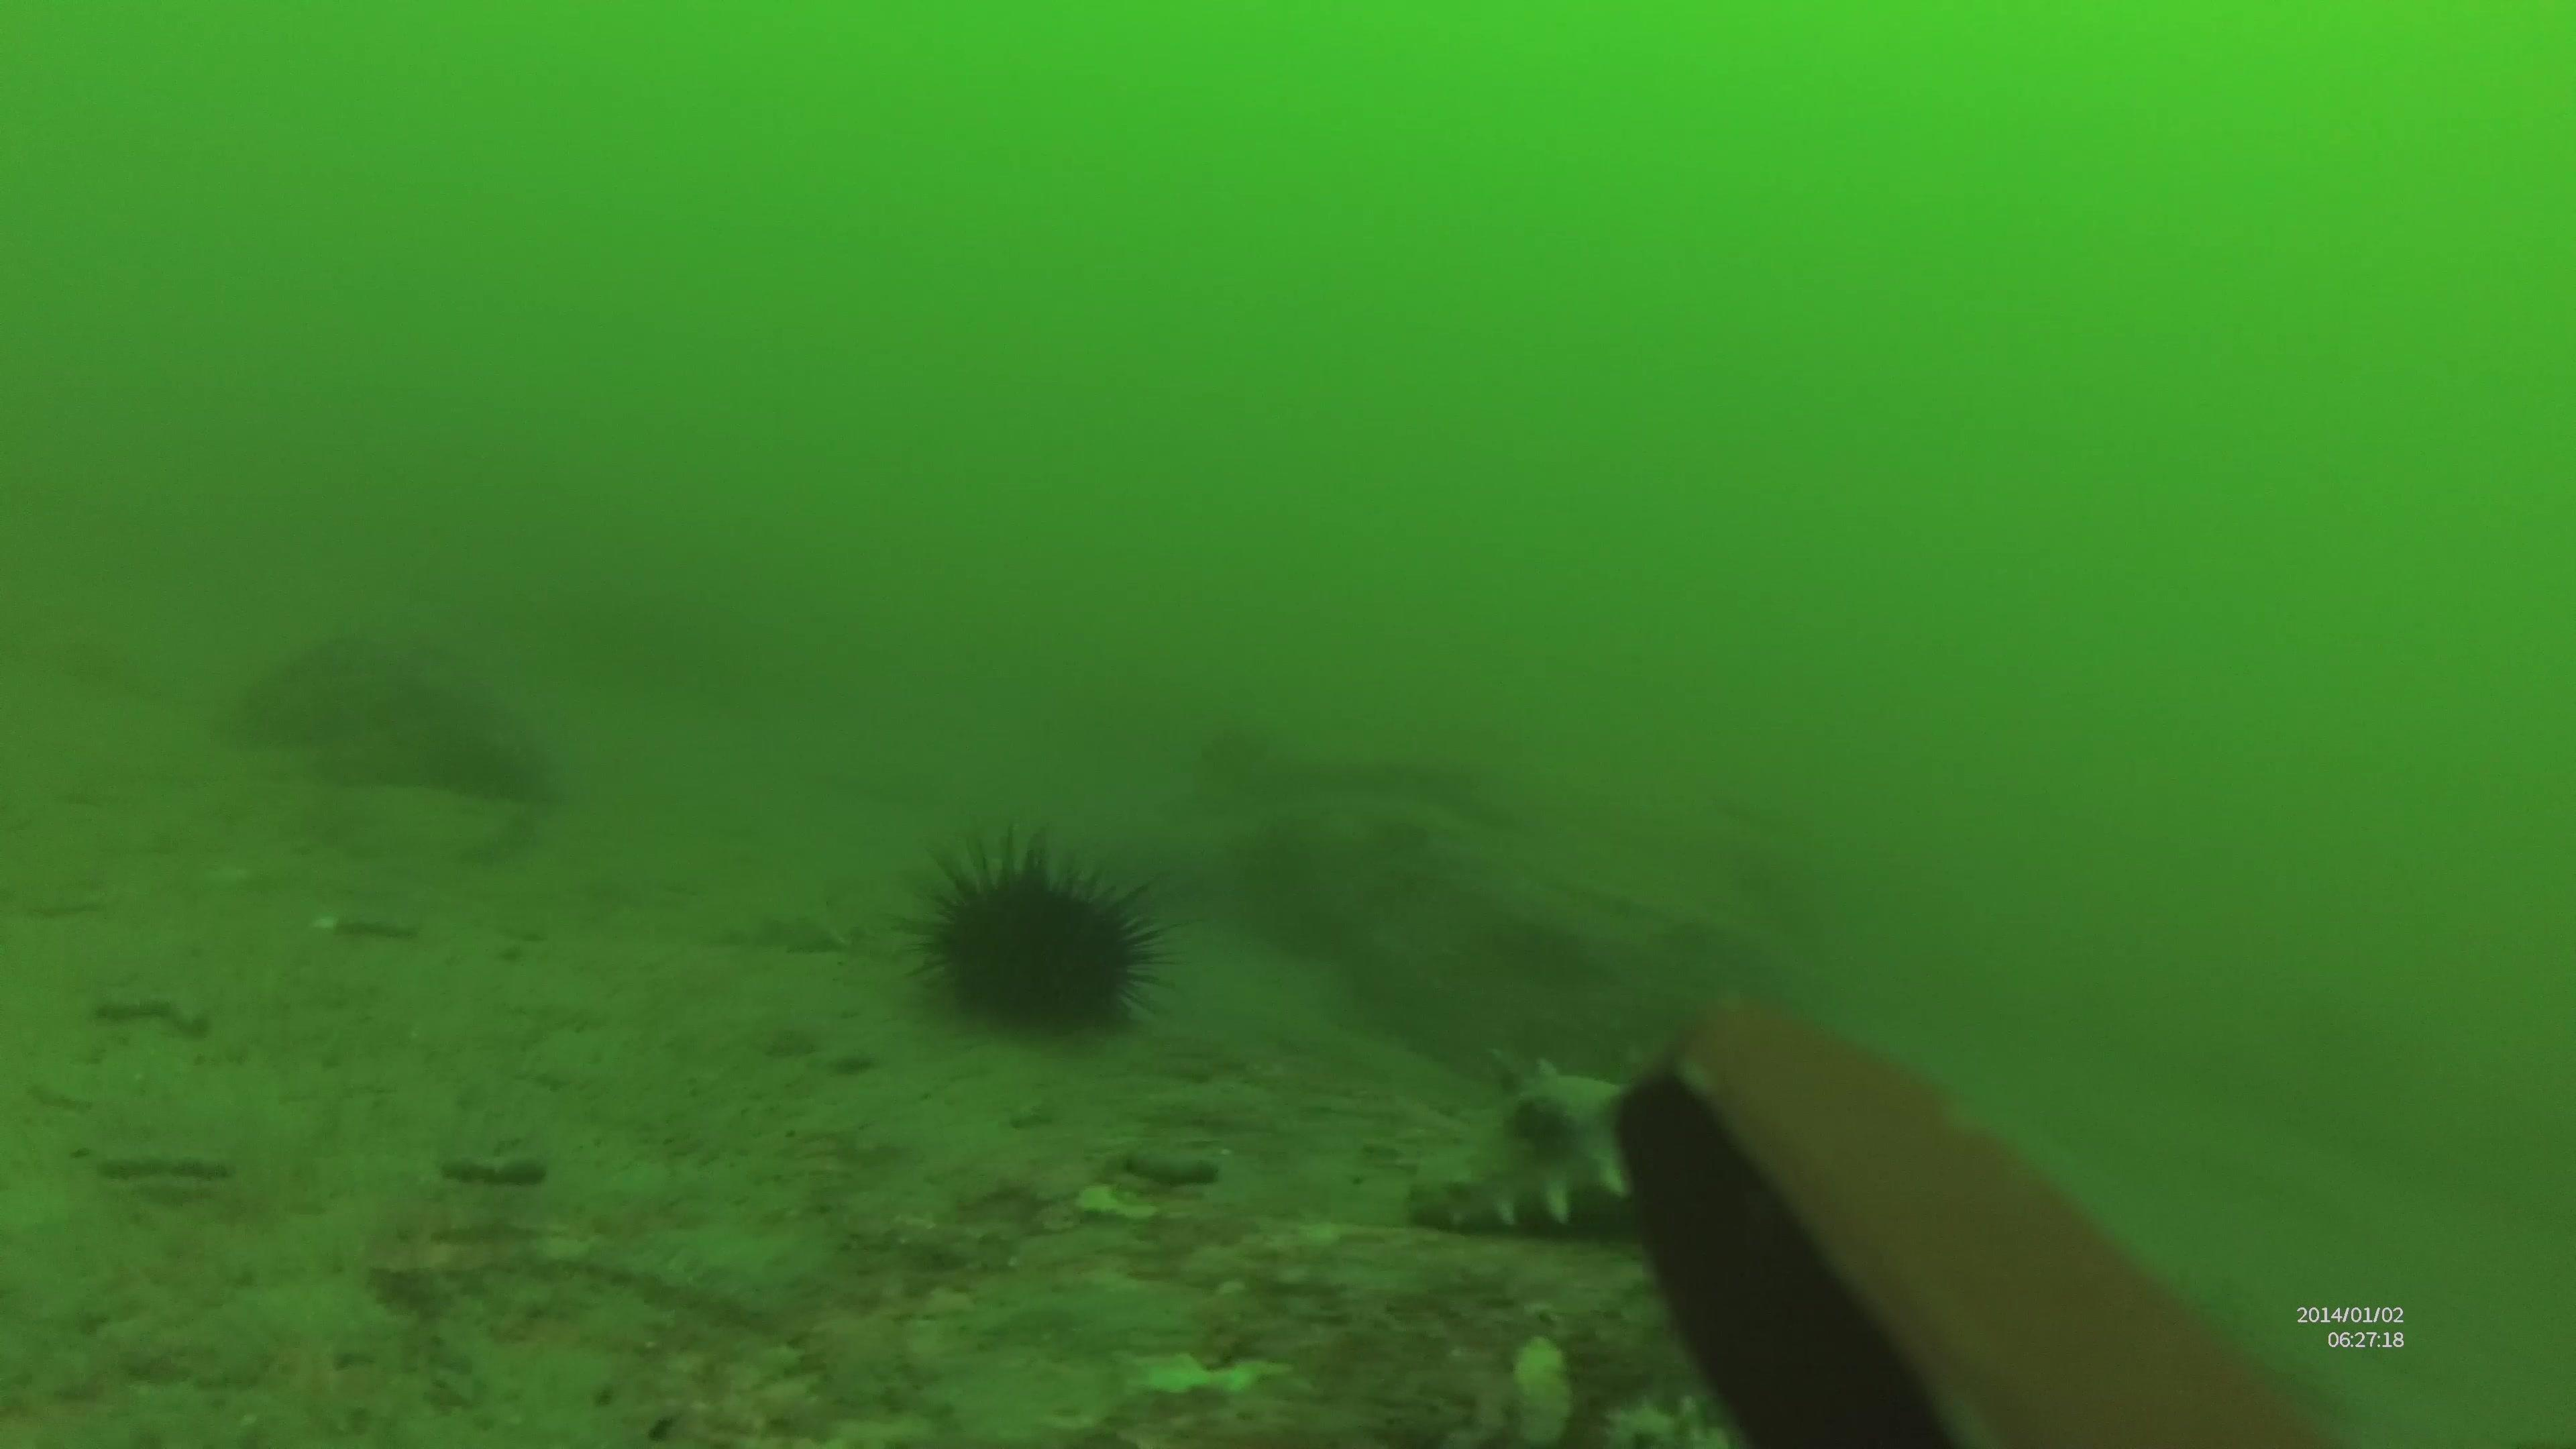echinus: (890, 816, 1180, 1049)
holothurian: (1396, 1053, 1893, 1254)
